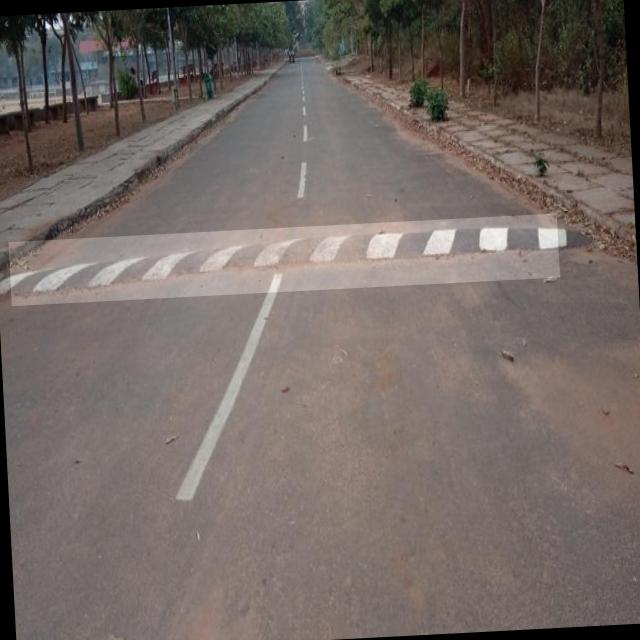bump: (8, 214, 560, 307)
